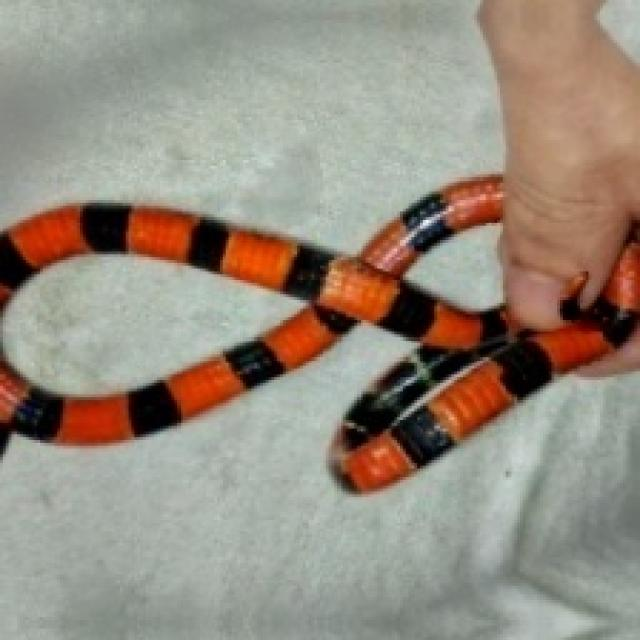barredcoral snake: (0, 174, 637, 489)
